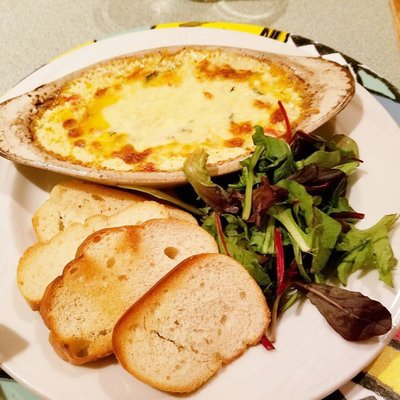soup: (111, 252, 272, 395)
